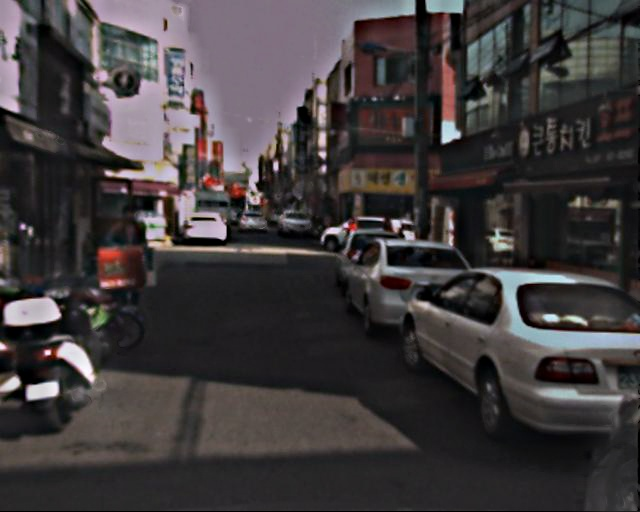person: (107, 201, 160, 317), (380, 215, 395, 251), (346, 218, 358, 248)
